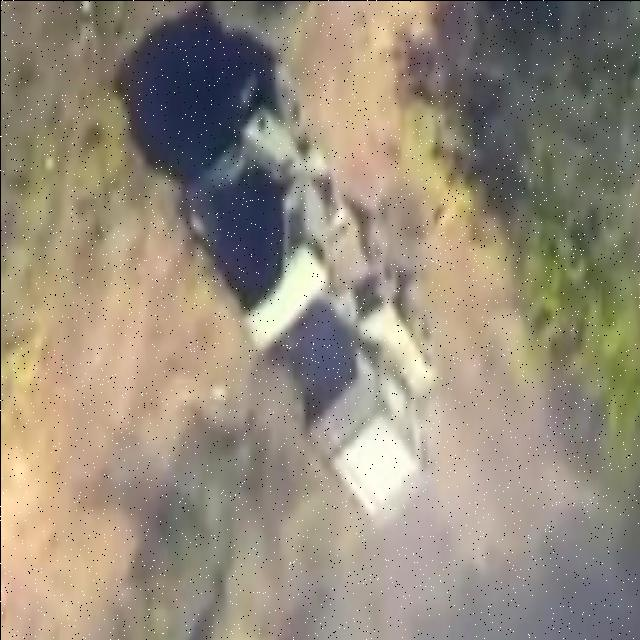MLRS: (178, 84, 438, 530)
